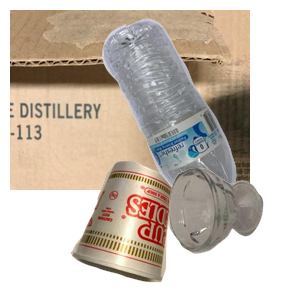cardboard: (10, 10, 250, 190)
glass: (166, 165, 300, 300)
plastic: (100, 16, 300, 196)
trash: (68, 158, 235, 300)
